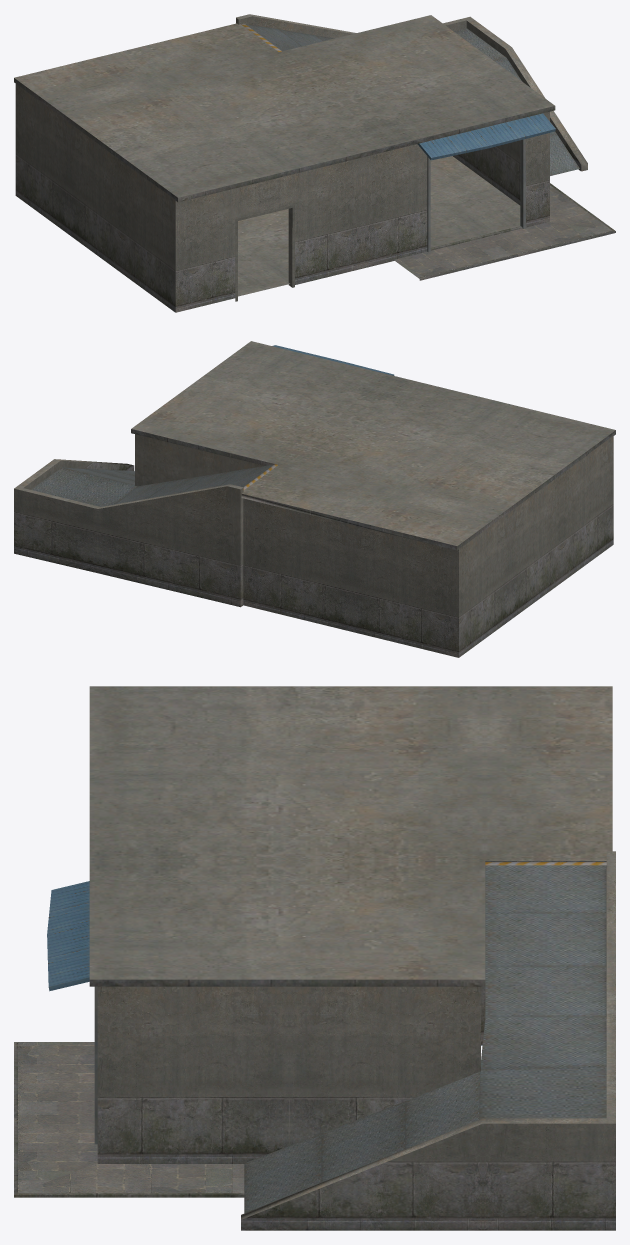
The model's file is Building_HeiygcFz03_2048_lod1.glb.
3 views of the same model, one above another, from view 1: azimuth 30°, elevation 25°; view 2: azimuth 150°, elevation 25°; view 3: azimuth 270°, elevation 25° (orthographic). The views are drawn at different scales.
Parts seen in each view (by area): view 1: xiutz_heiygc_fz_03_lod1; view 2: xiutz_heiygc_fz_03_lod1; view 3: xiutz_heiygc_fz_03_lod1.
Boxes of the visible parts, x1,y1,x2,y2 form: xiutz_heiygc_fz_03_lod1: (14, 14, 615, 312); xiutz_heiygc_fz_03_lod1: (14, 341, 615, 657); xiutz_heiygc_fz_03_lod1: (14, 686, 615, 1230).
Size of the model in its own units: 22.07 by 5.73 by 15.79.
1 material, 1 textured.
